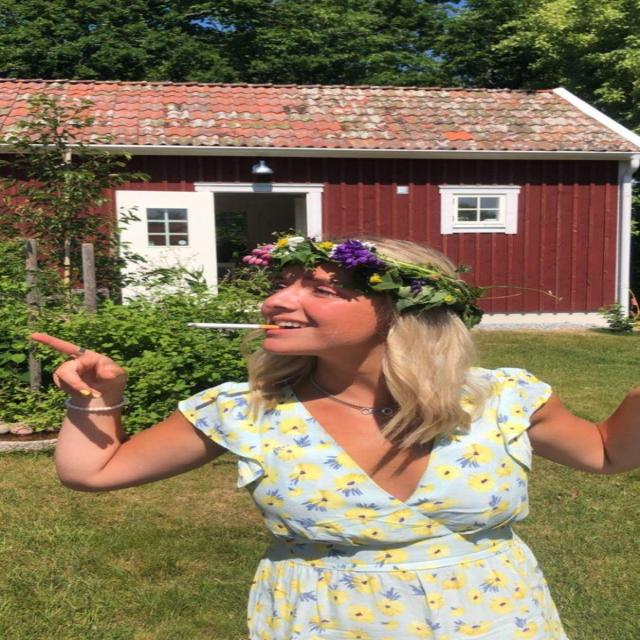cigarette: (181, 306, 297, 340)
